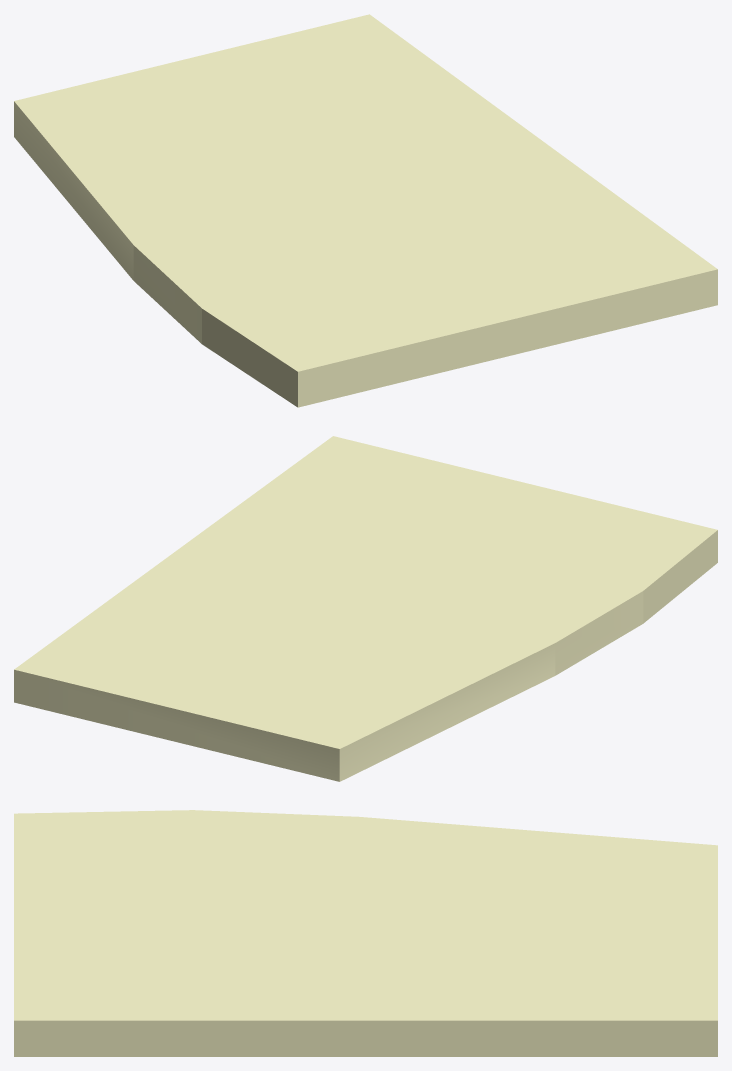
File: base_desk.glb
The picture shows the model from 3 angles, top to bottom: view 1: azimuth 30°, elevation 25°; view 2: azimuth 150°, elevation 25°; view 3: azimuth 270°, elevation 25°; orthographic projection. The views are drawn at different scales.
Visible parts, largest first — view 1: base_desk; view 2: base_desk; view 3: base_desk.
Part boxes in pixels (x1,y1,x2,y2): base_desk: [14, 14, 717, 407]; base_desk: [14, 436, 717, 781]; base_desk: [14, 810, 717, 1056].
Size of the model in its own units: 3.56 by 0.2856 by 5.03.
